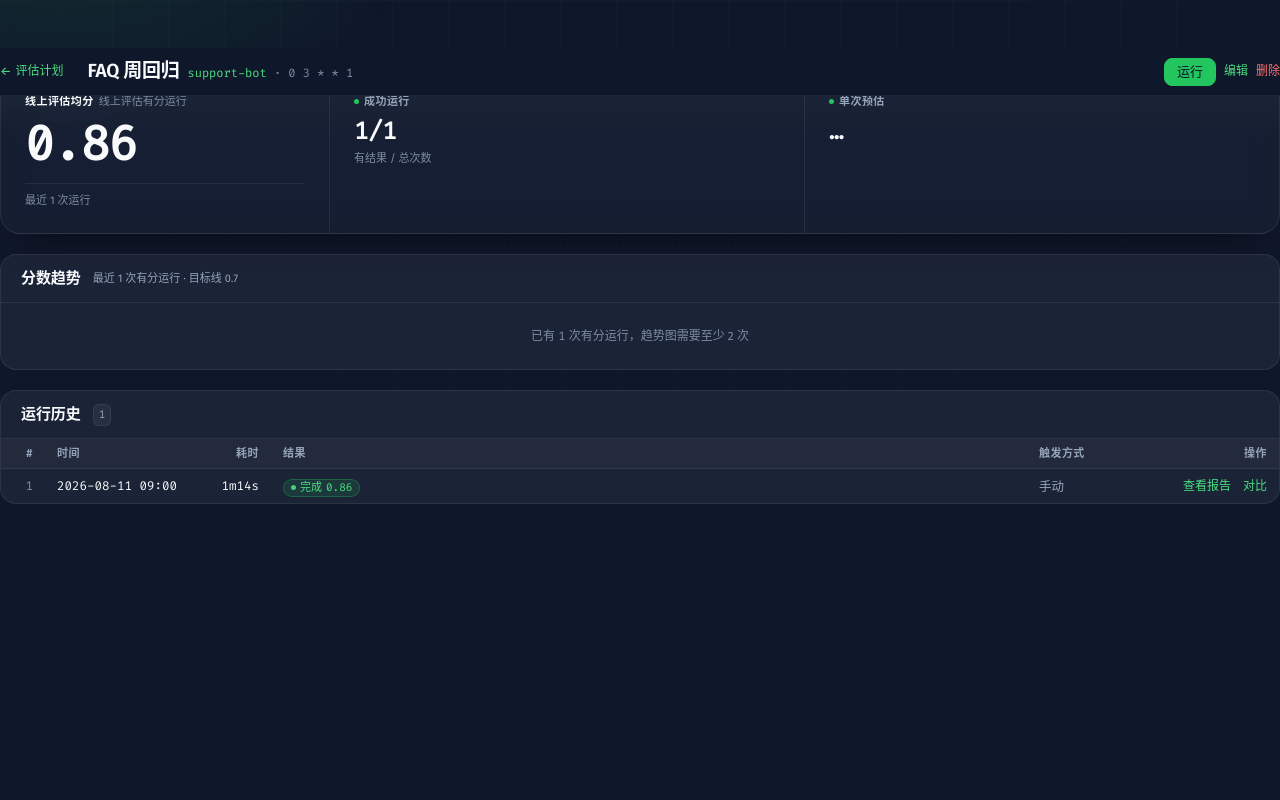
交付 1：断流 ≠ 失败，转 get_plan_run 轮询 › 后端说 stale（心跳停了）：中性「疑似中断」并停手，不再轮询
The width and height of the screenshot is (1280, 800).
Check: the table with test id "plan-runs-table" is shown, box [1,440,1279,504]
Click the button with test id "plan-run". click: click(1190, 72)
box: [1164,58,1216,86]
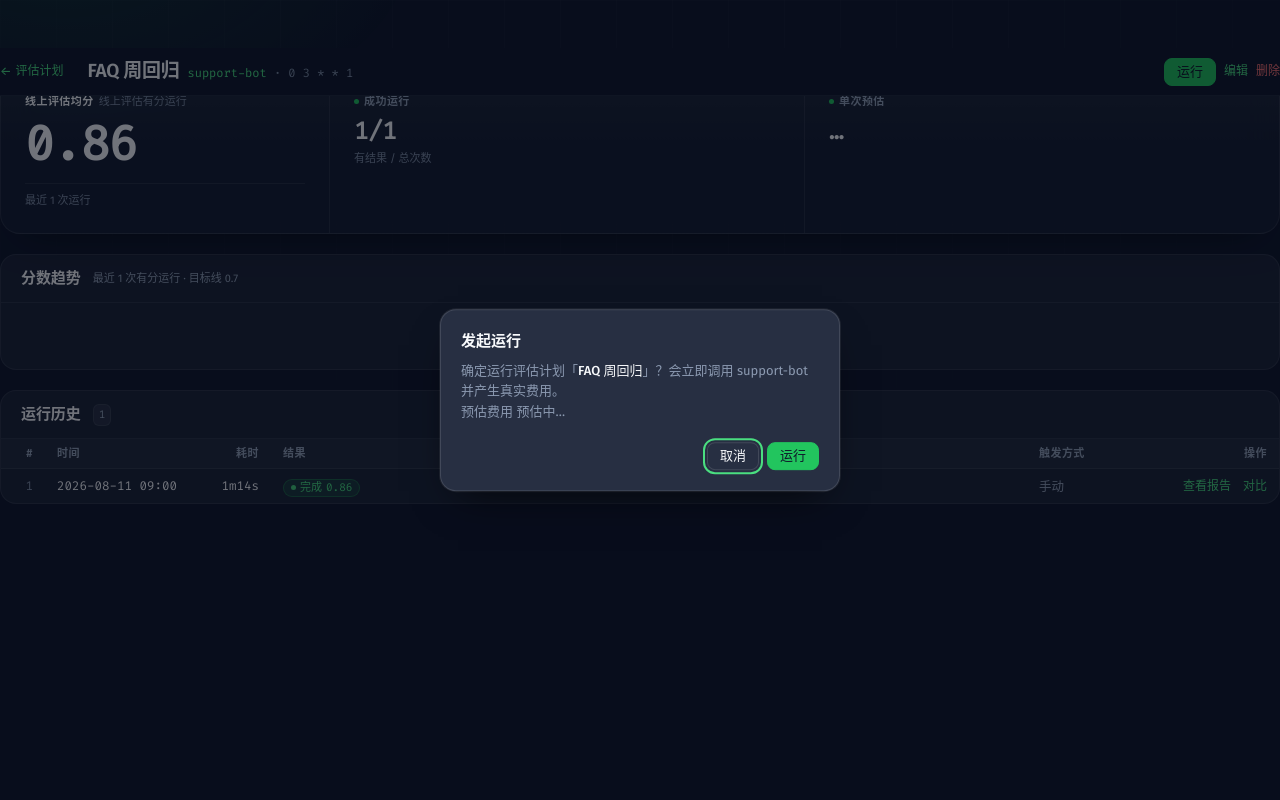
Click the button with test id "confirm-card-ok". click: click(793, 456)
box: [767,442,819,470]
Wait 41000 ms
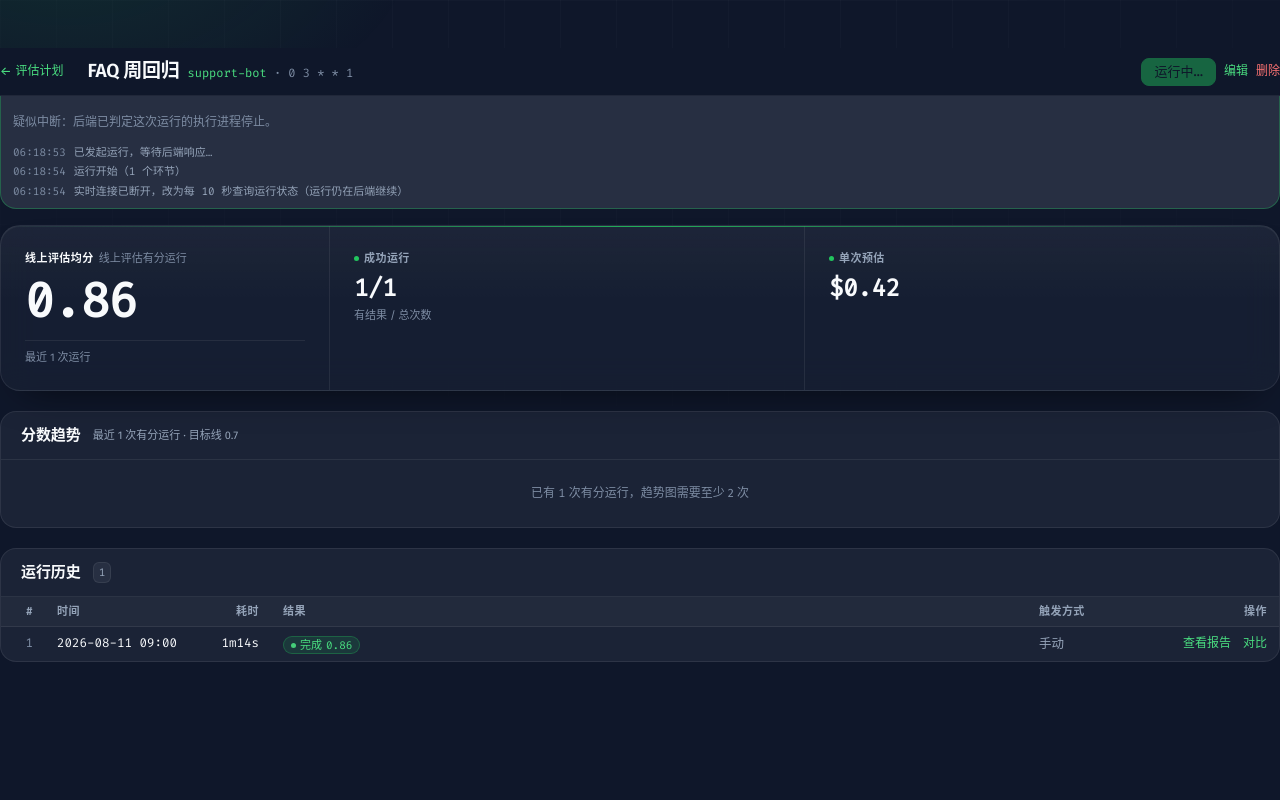
Check: the message with test id "plan-run-progress" is shown, box [0,68,1279,209]
Check: the element with test id "plan-run-progress-log" is shown, box [13,145,408,199]
Check: the element with test id "plan-run-reattached" is shown, box [87,80,176,98]
